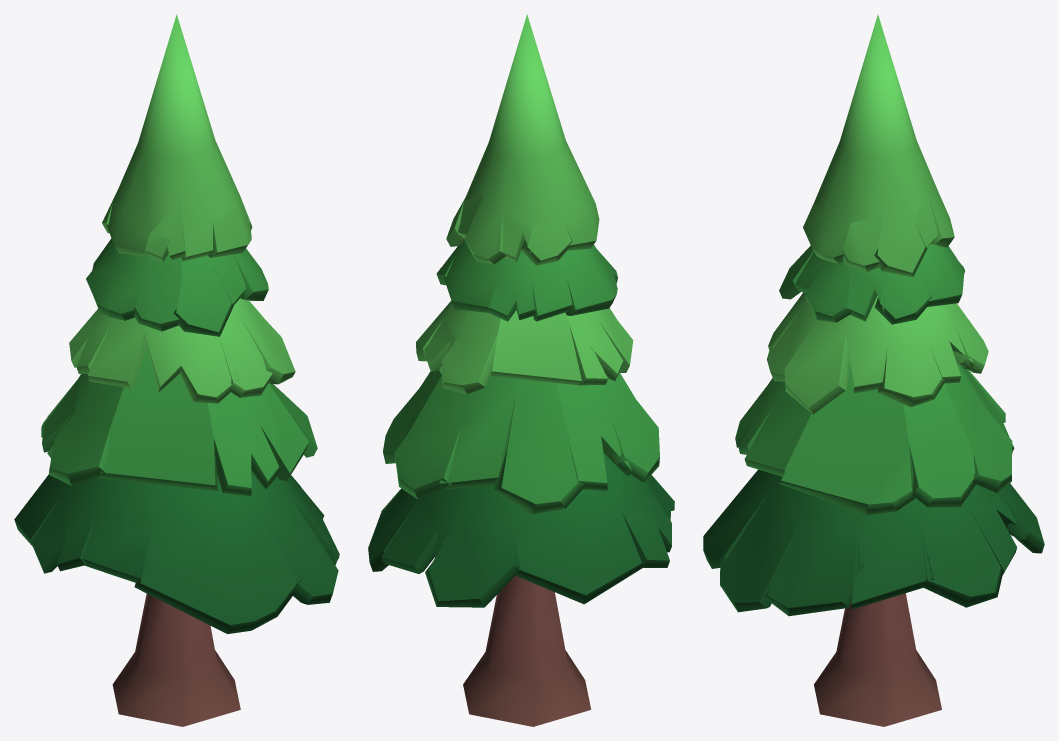
File: Pine_tree_01.fbx
The picture shows the model from 3 angles, left to right: view 1: azimuth 30°, elevation 25°; view 2: azimuth 150°, elevation 25°; view 3: azimuth 270°, elevation 25°; orthographic projection.
Visible parts, largest first — view 1: Pine_tree_01Shape; view 2: Pine_tree_01Shape; view 3: Pine_tree_01Shape.
Part boxes in pixels (<box>): Pine_tree_01Shape: <box>14,14,339,726</box>; Pine_tree_01Shape: <box>368,14,674,726</box>; Pine_tree_01Shape: <box>703,15,1044,726</box>.
Bounding box in the file's own units: 5.48 × 13.08 × 5.93.
